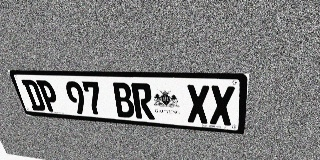7: (81, 81, 106, 116)
9: (64, 81, 89, 114)
B: (111, 82, 136, 118)
D: (21, 80, 47, 111)
P: (36, 80, 61, 112)
R: (131, 83, 155, 120)
X: (210, 85, 235, 126), (186, 85, 209, 124)
